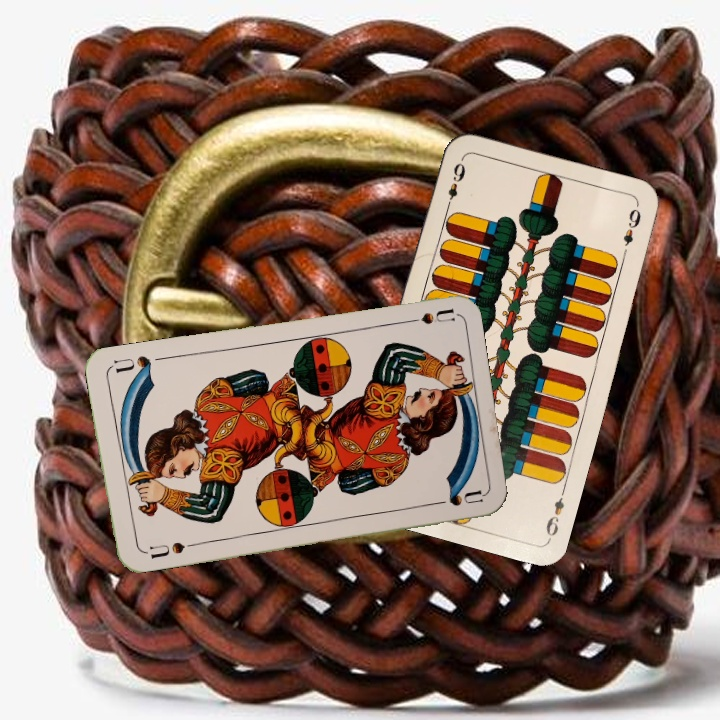E9: (542, 484, 568, 542), (442, 158, 468, 213)
SU: (396, 305, 455, 327), (146, 538, 196, 562)
